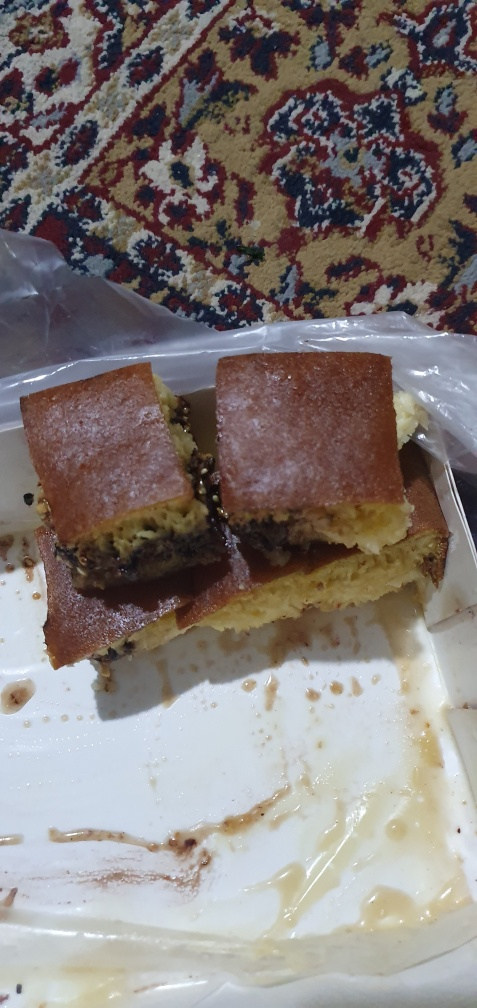martabak manis: (213, 319, 421, 546), (15, 373, 225, 575)
